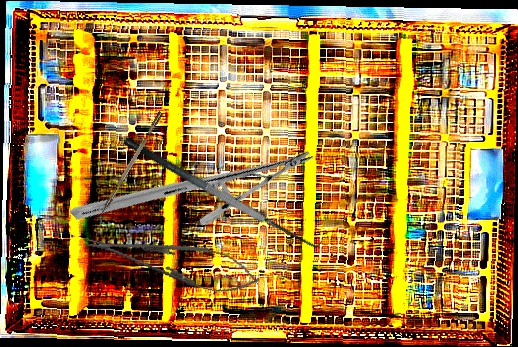Chopper: (94, 111, 169, 225)
Needle Holder: (69, 64, 315, 306), (82, 220, 264, 302)
Spatula Surgical: (121, 119, 328, 260)
